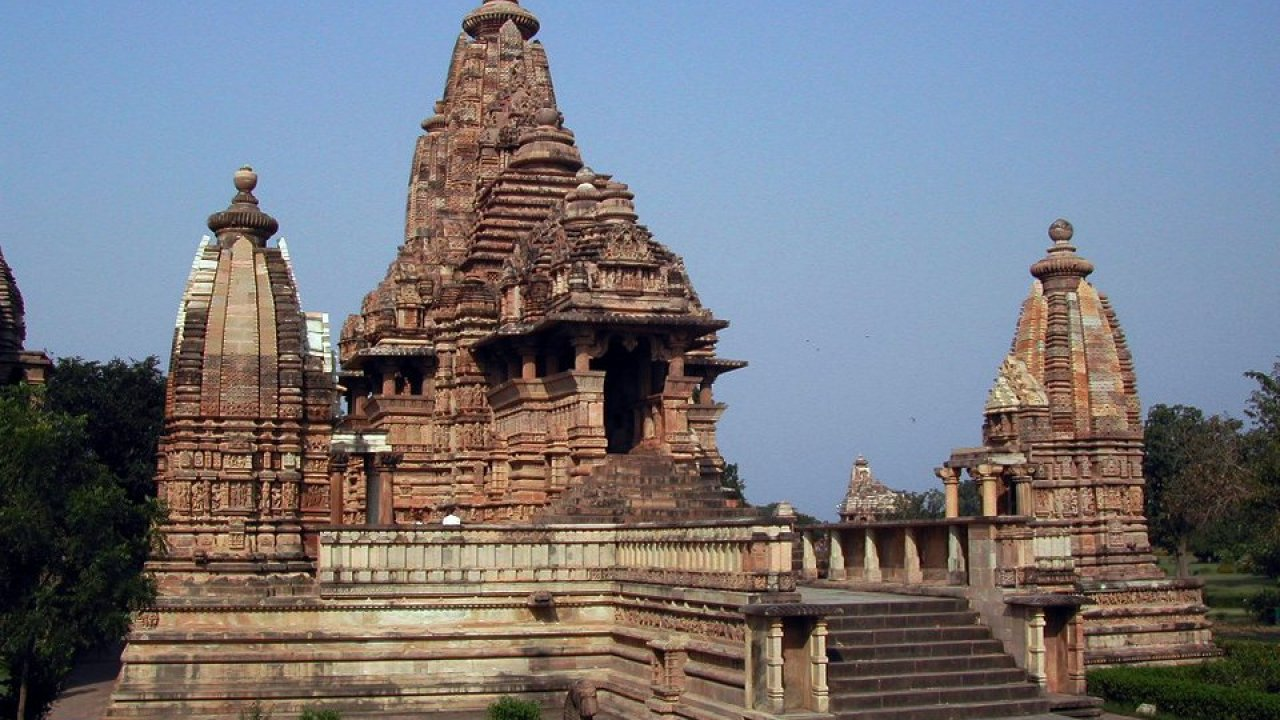Temple: (388, 6, 735, 502), (155, 175, 351, 531), (976, 210, 1158, 547)
